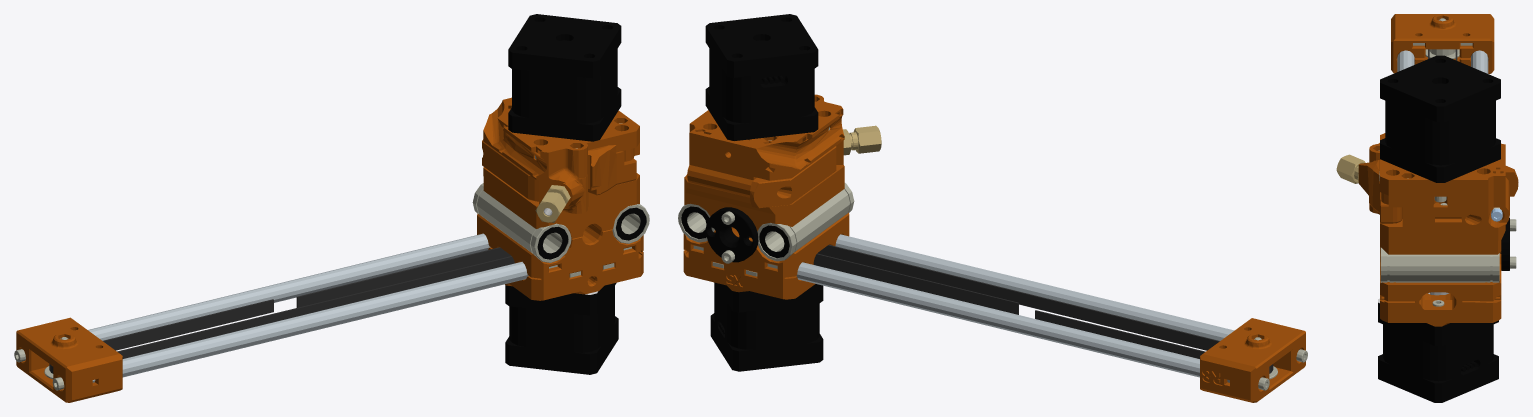
Rendered from Mini_X.obj.
3 views of the same model, side by side, from view 1: azimuth 30°, elevation 25°; view 2: azimuth 150°, elevation 25°; view 3: azimuth 270°, elevation 25° (orthographic). The views are drawn at different scales.
Parts seen in each view (by area): view 1: Prusa_Mini; view 2: Prusa_Mini; view 3: Prusa_Mini.
Boxes of the visible parts, <box> form: Prusa_Mini: <box>14,14,649,402</box>; Prusa_Mini: <box>678,14,1307,402</box>; Prusa_Mini: <box>1336,14,1518,402</box>.
Size of the model in its own units: 297 by 152 by 84.1.
